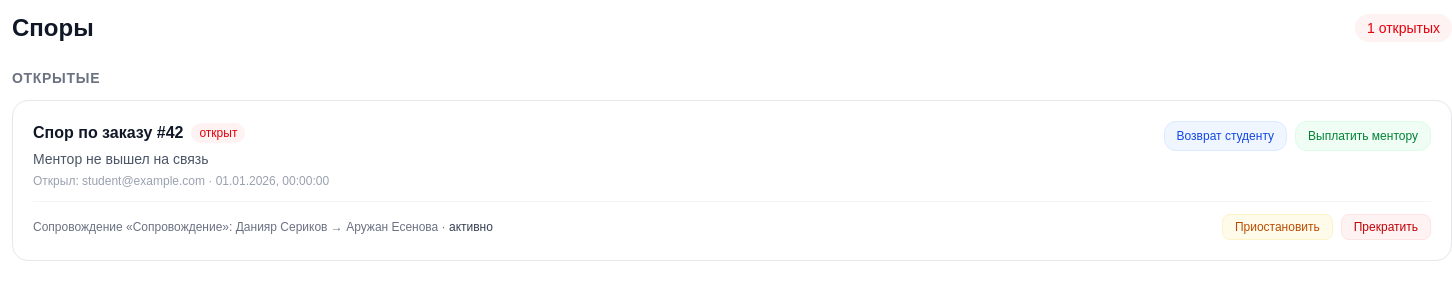
Test: CRMDisputesPage › cancels the engagement after entering a reason
This screenshot has width=1452, height=306.
Click the button "Прекратить" at coordinates (1386, 227), box [1341, 214, 1431, 240]
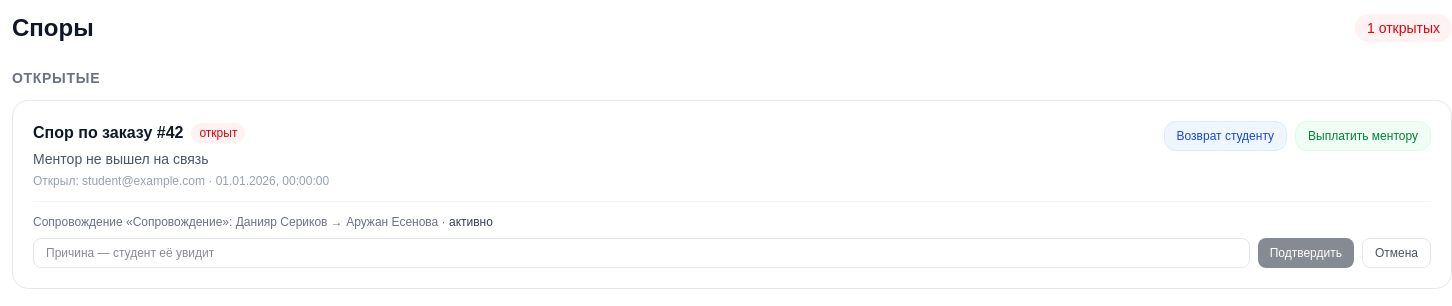
Type "Диспут решён в пользу студента" into the field with placeholder "Причина — студент её увидит" at coordinates (641, 253), box [33, 238, 1250, 268]
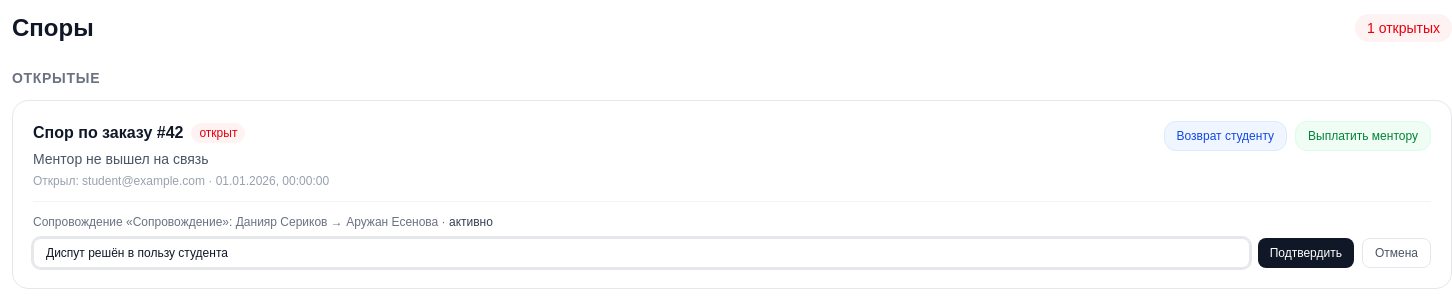
Click the button "Подтвердить" at coordinates (1306, 253), box [1258, 238, 1354, 268]
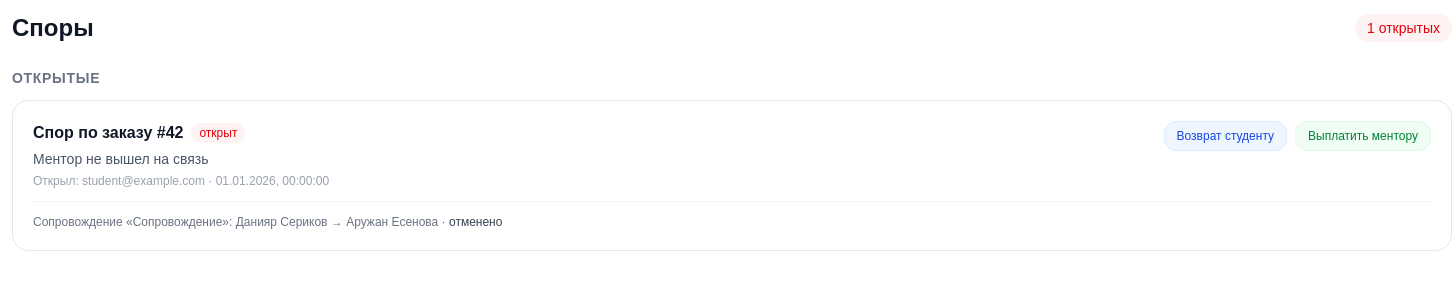
Now the text "отменено" is shown, box [449, 215, 502, 229]
